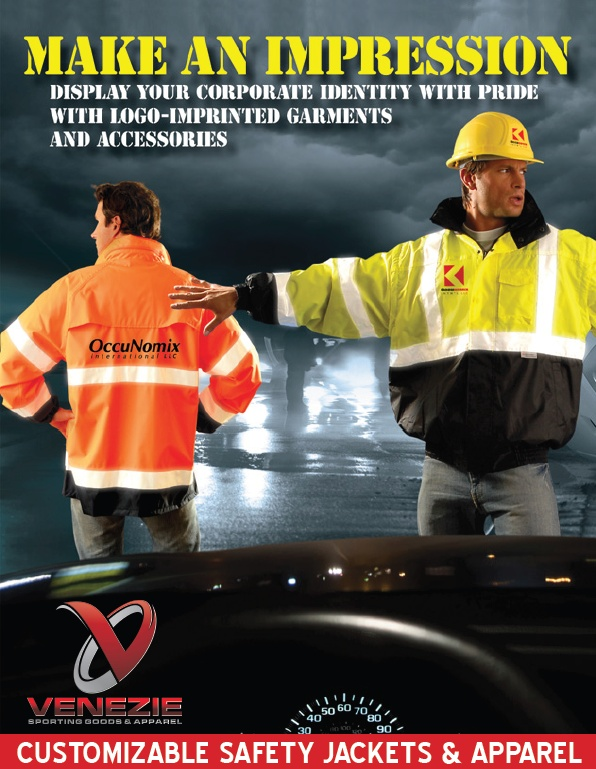helmet: (443, 114, 541, 172)
person with full safety: (379, 116, 578, 530)
person with partial safety: (24, 170, 231, 551)
safety vest: (386, 216, 584, 476), (36, 249, 226, 514)
